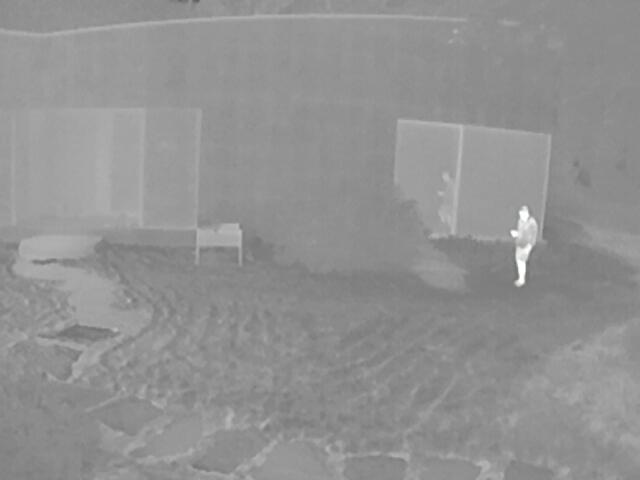person: (510, 206, 537, 287), (434, 170, 455, 232)
